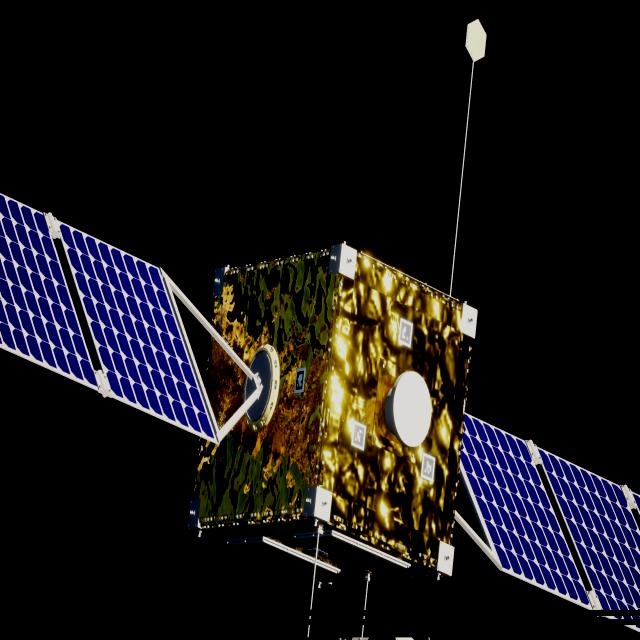satellite: (0, 194, 640, 633)
